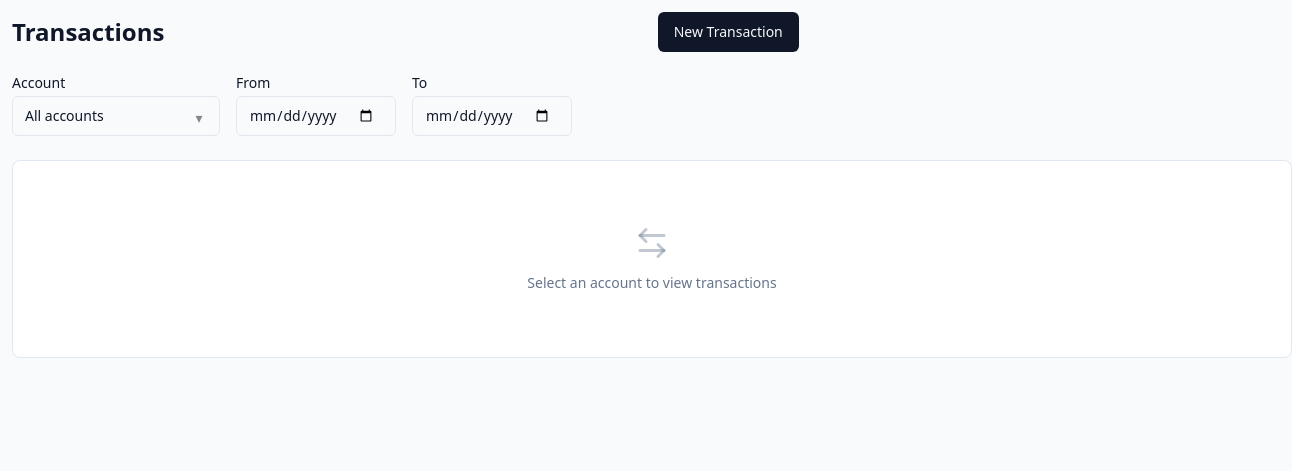
Transactions page › renders a loading skeleton while transactions are fetching
Click the dropdown labelled "All accounts ▾": (116, 116) [12, 96, 220, 136]
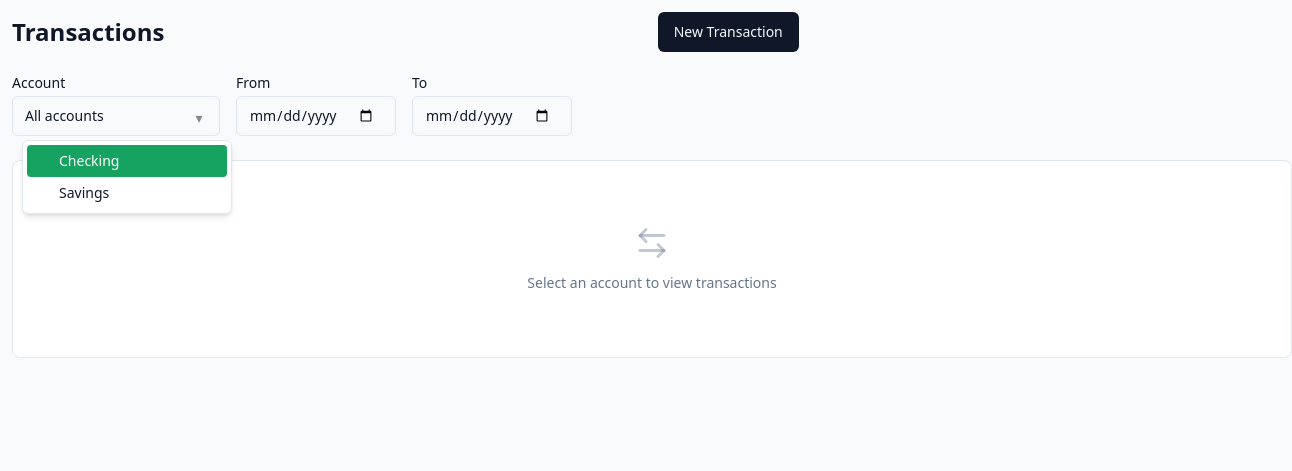
Click the option "Checking": (127, 161) [27, 145, 227, 177]
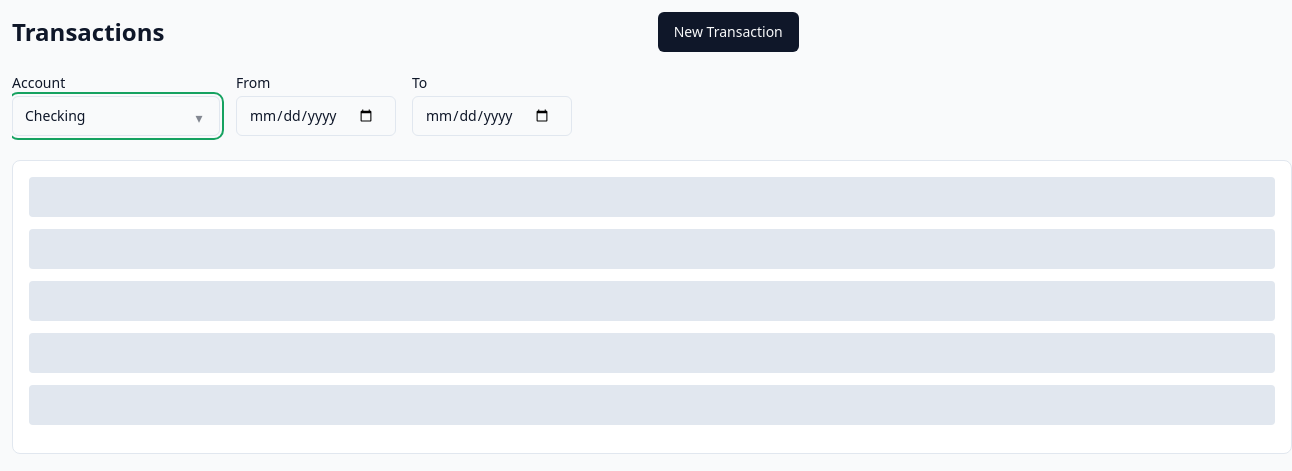
Check: the message named "loading transactions" is shown
